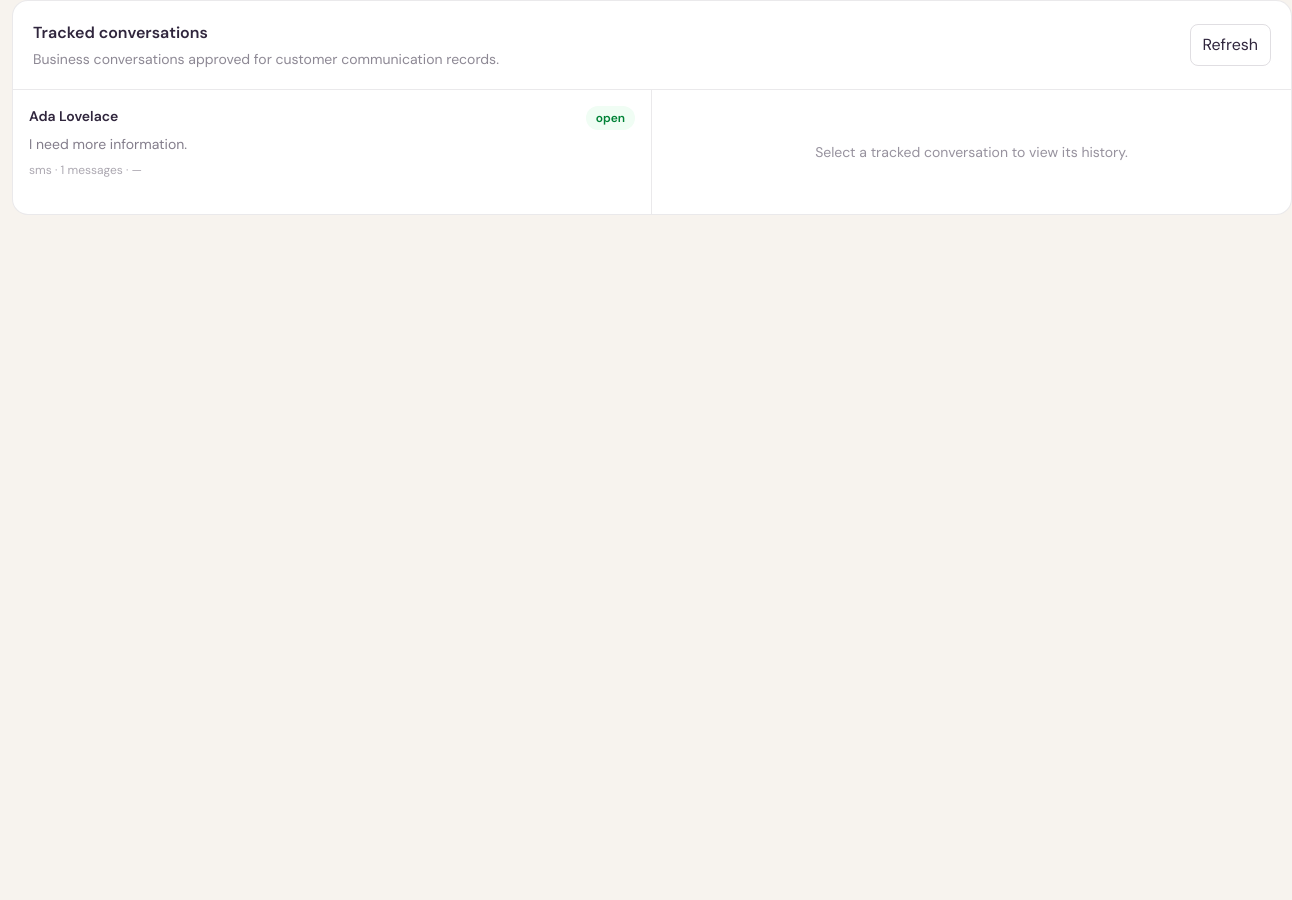
Test: ConversationWorkspace replies › shows a friendly permission error when replying is forbidden
Click the button "Ada Lovelace": (74, 116) [13,90,651,194]
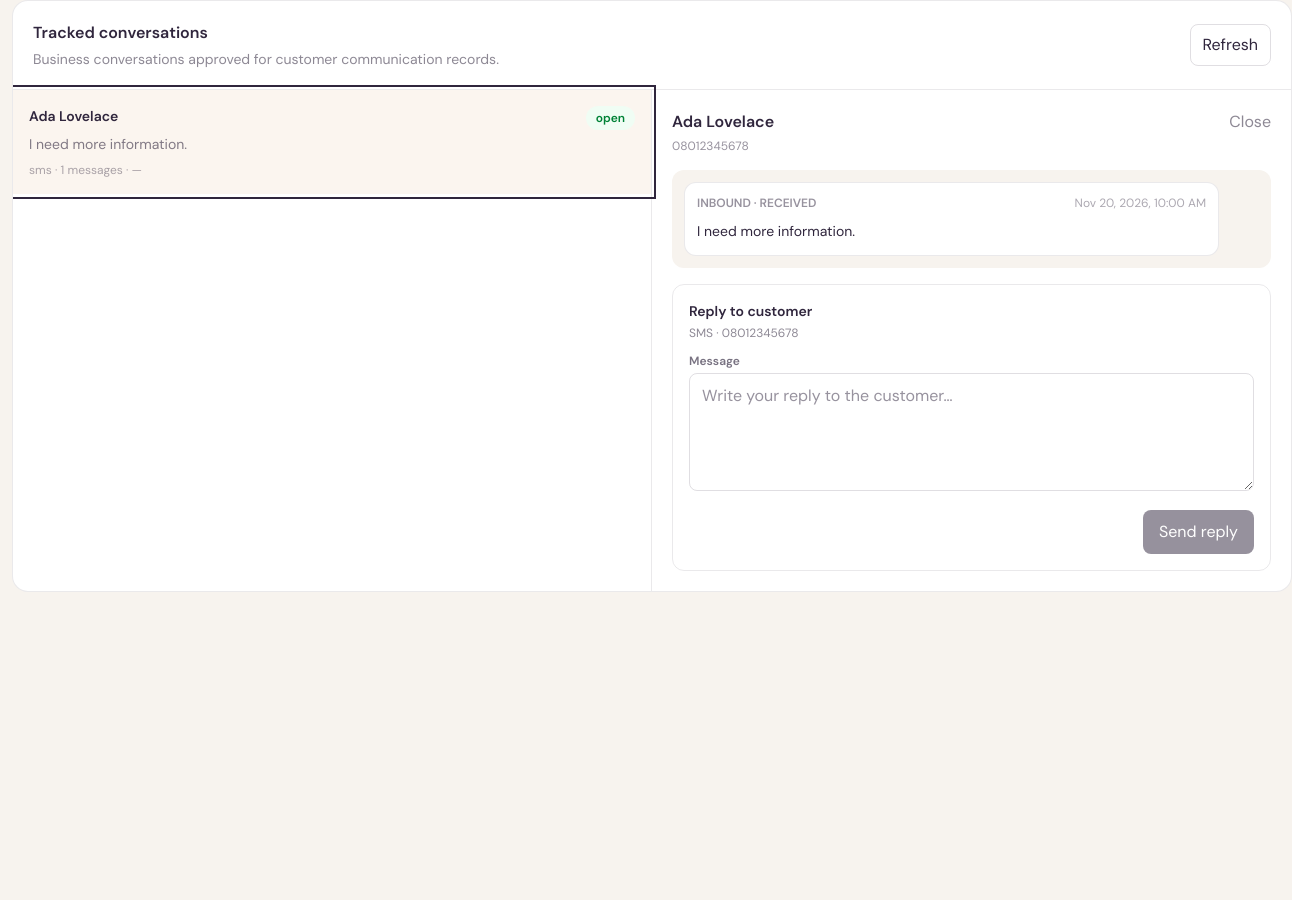
Expected: the heading "Reply to customer" is shown, [689,302,812,320]
In the text box labelled "Message": (972, 432) [689,373,1254,491], type "Thank you for your enquiry."
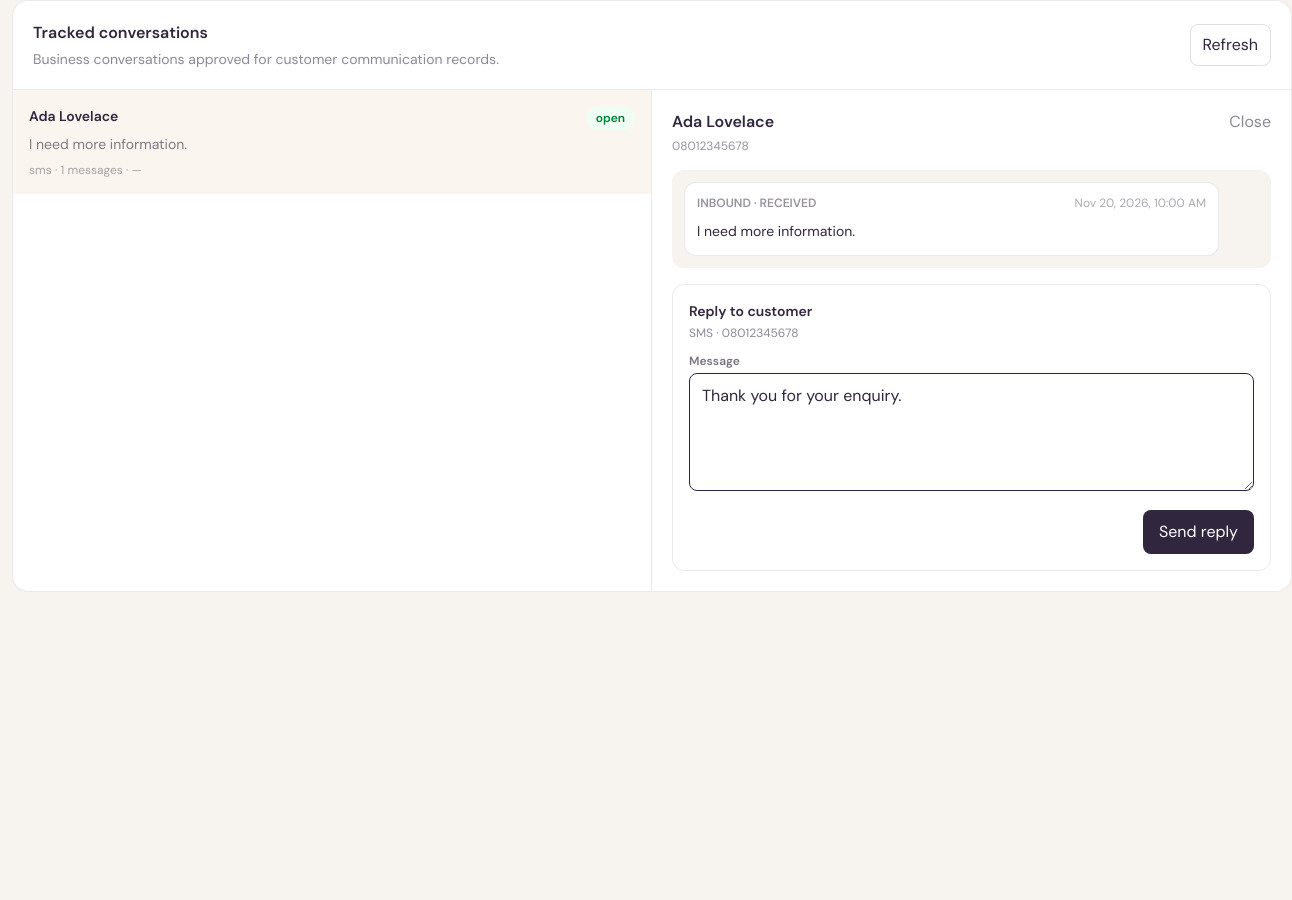
Click the button "Send reply": (1198, 532) [1143,510,1254,554]
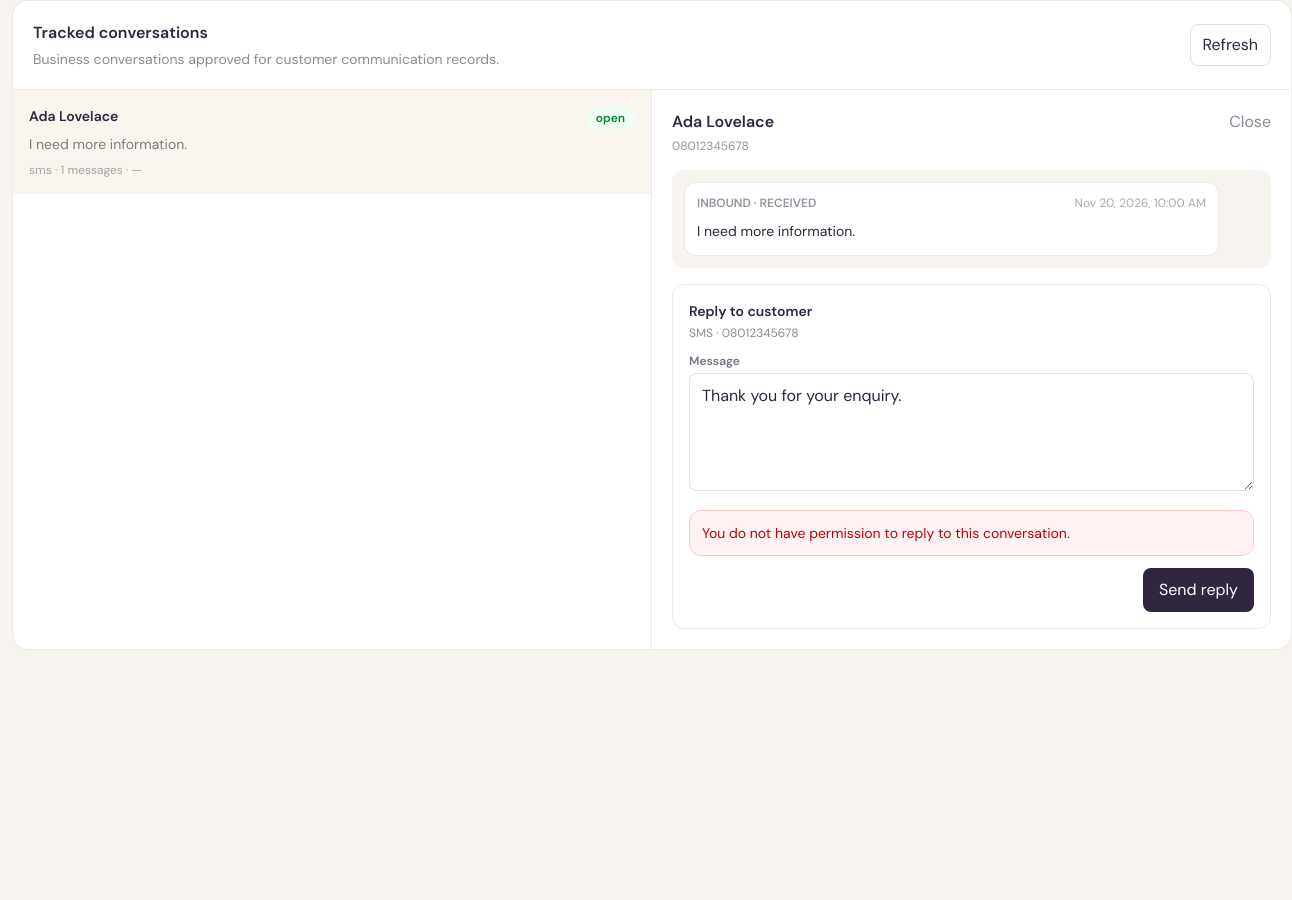
Expected: the message reads "You do not have permission to reply to this conversation.", [702,524,1070,542]
